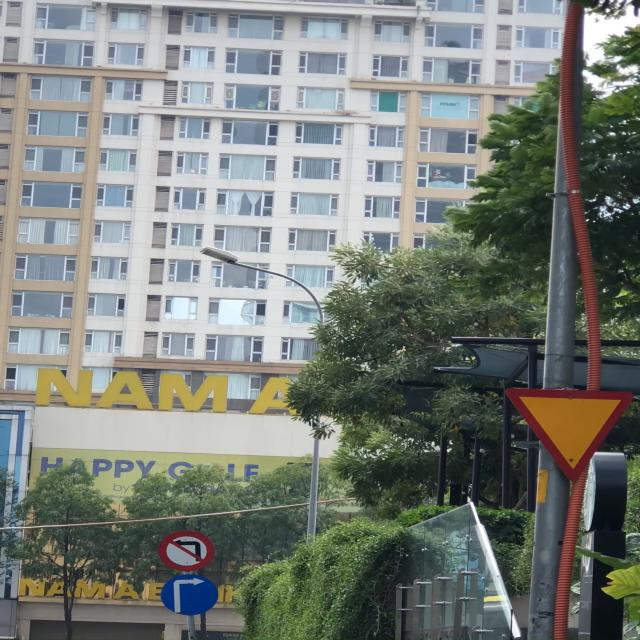Bien bao cam re trai: (156, 528, 218, 572)
Bien bao giao nhau voi duong uu tien: (498, 379, 640, 484)
Bien bao huong di phai theo: (160, 572, 224, 621)
